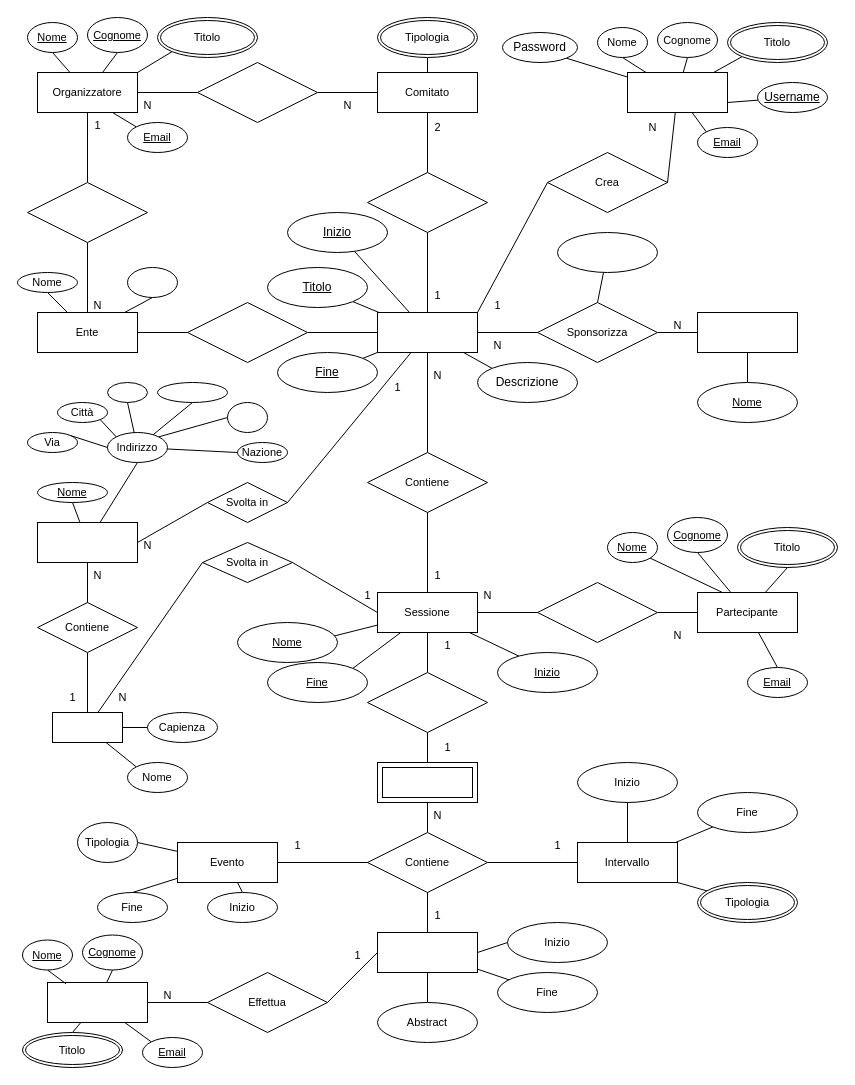
Some shapes in this 855 by 1085 pixel diagram are drawn without their labels. Each missing label, with the box of its shape:
Appartiene_A: (26, 182, 148, 242)
CAP: (106, 382, 148, 402)
Civico: (226, 402, 268, 432)
Conferenza: (376, 312, 478, 352)
Contributo: (556, 232, 658, 272)
Gestiscono: (366, 172, 488, 232)
Intervento: (376, 932, 478, 972)
Lavora_In: (196, 62, 318, 122)
Organizza: (186, 302, 308, 362)
Partecipa: (536, 582, 658, 642)
Possiede: (366, 672, 488, 732)
Programma: (376, 762, 478, 802)
Provincia: (156, 382, 228, 402)
Sala: (52, 712, 122, 742)
Sede: (36, 522, 138, 562)
Sigla: (126, 266, 178, 298)
Speaker: (46, 982, 148, 1022)
Sponsor: (696, 312, 798, 352)
Utente: (626, 72, 728, 112)
